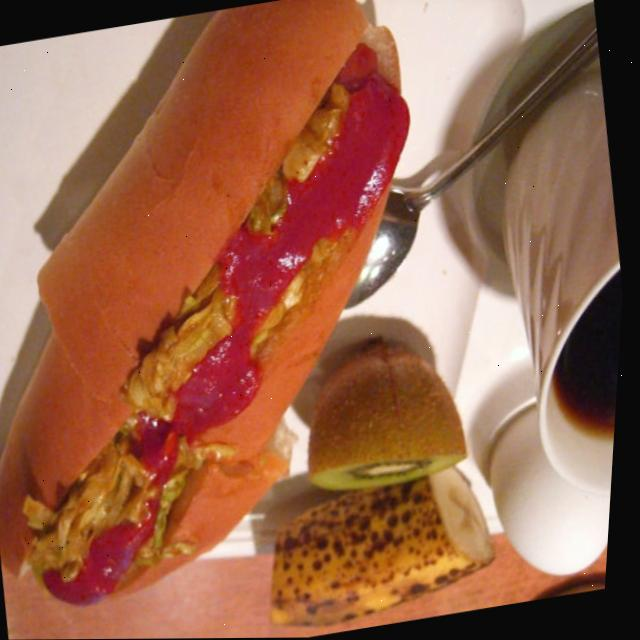汉堡快餐: (57, 0, 542, 625)
